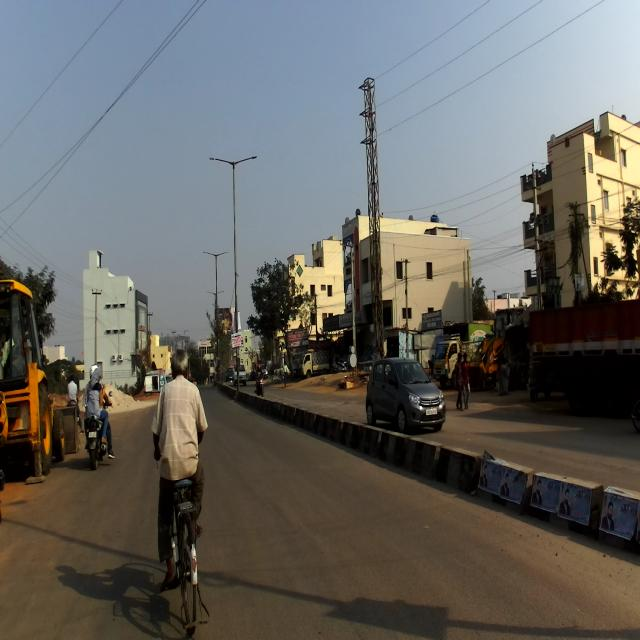bicycle ahead at: (156, 482, 212, 640)
truck ahead at: (0, 269, 79, 491)
